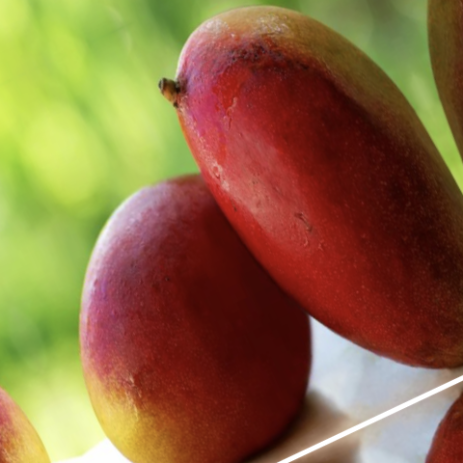mango: (114, 0, 463, 454), (0, 129, 389, 463)
